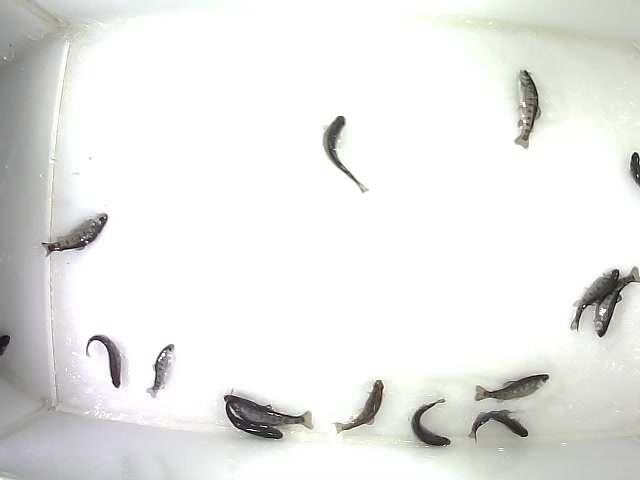fish: (321, 114, 369, 194), (39, 210, 109, 260), (568, 268, 621, 334), (593, 265, 640, 339), (224, 395, 316, 431), (224, 388, 284, 440), (333, 378, 386, 435), (512, 68, 543, 152), (473, 373, 550, 404), (466, 409, 530, 445), (407, 397, 453, 447), (85, 333, 123, 390), (145, 343, 178, 399)
